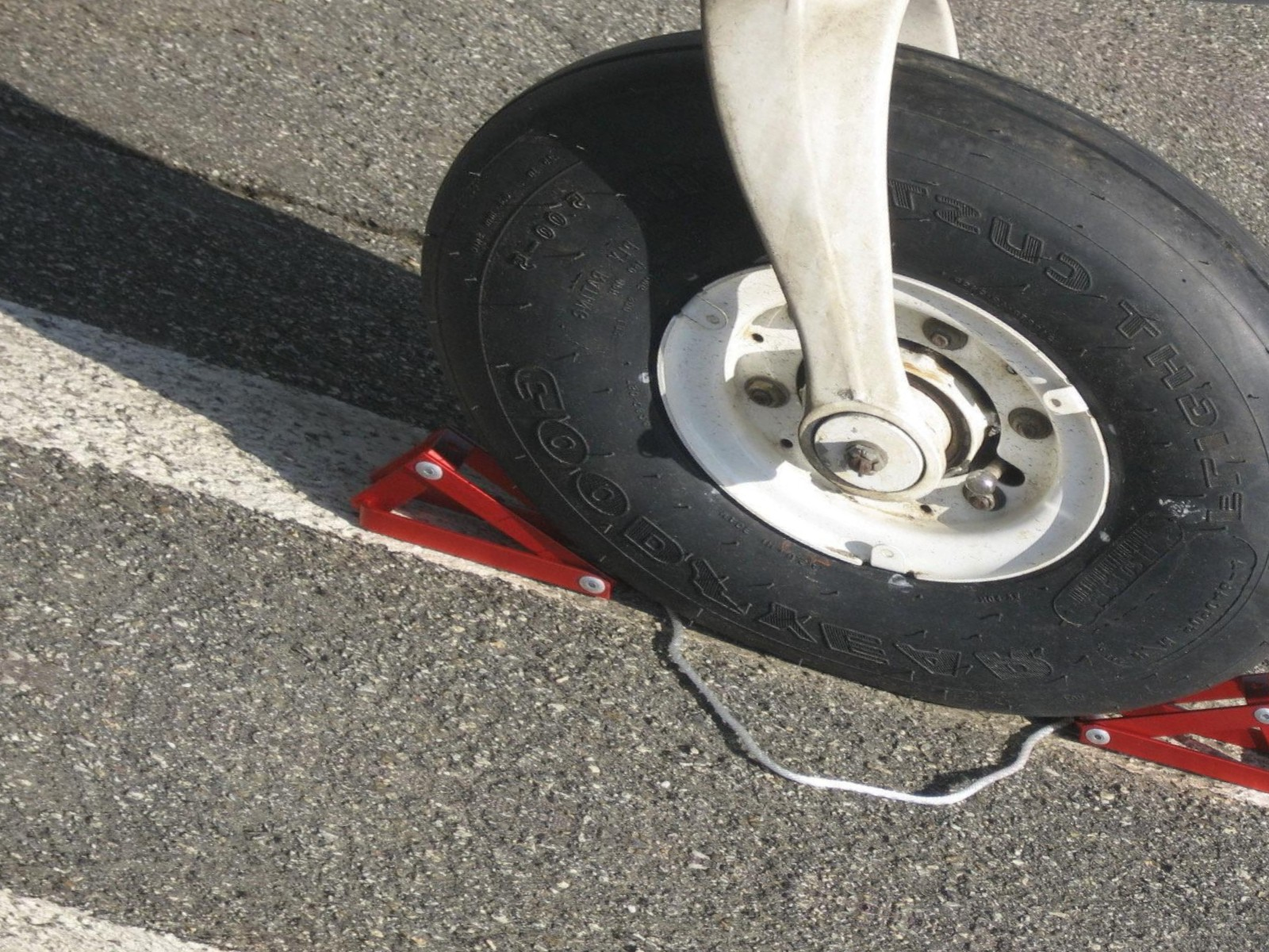chock: (338, 404, 645, 607), (1069, 618, 1269, 815)
wheel: (379, 0, 1269, 802)
